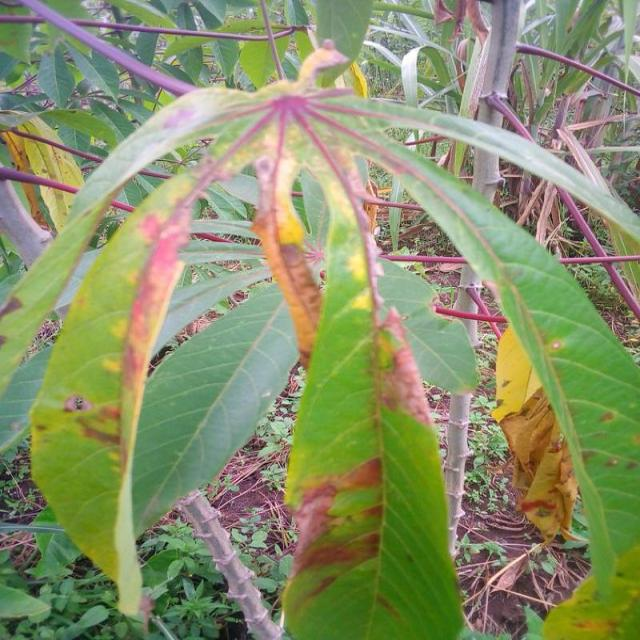cassava leaf: (2, 49, 640, 636)
